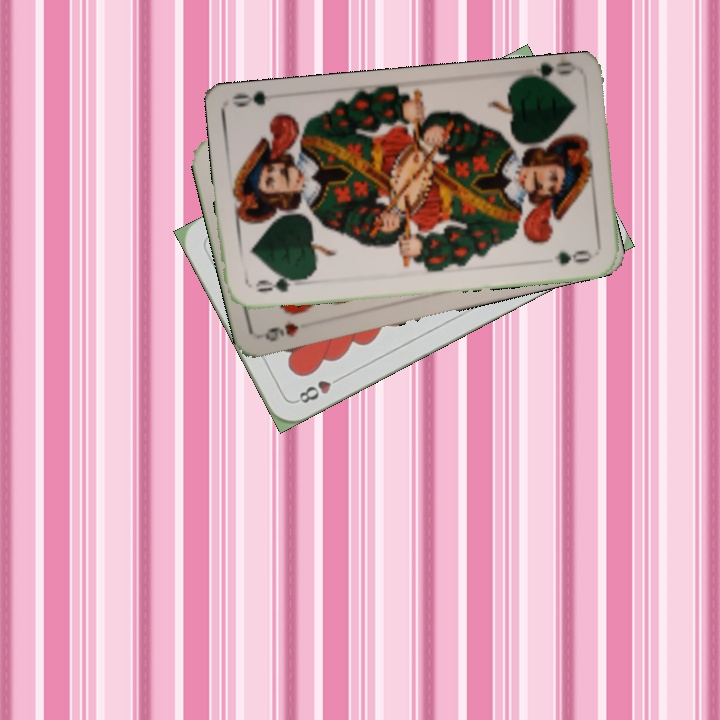GO: (519, 60, 578, 89), (251, 272, 305, 295)
H8: (291, 371, 346, 406)
H9: (261, 317, 301, 344)
